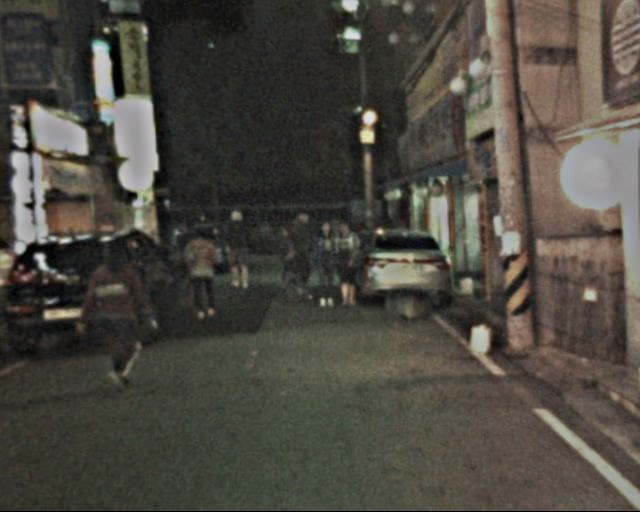person: (86, 234, 150, 397), (180, 222, 222, 324), (219, 205, 256, 298), (283, 210, 324, 289), (331, 222, 364, 313), (276, 219, 309, 307), (311, 220, 342, 312)
